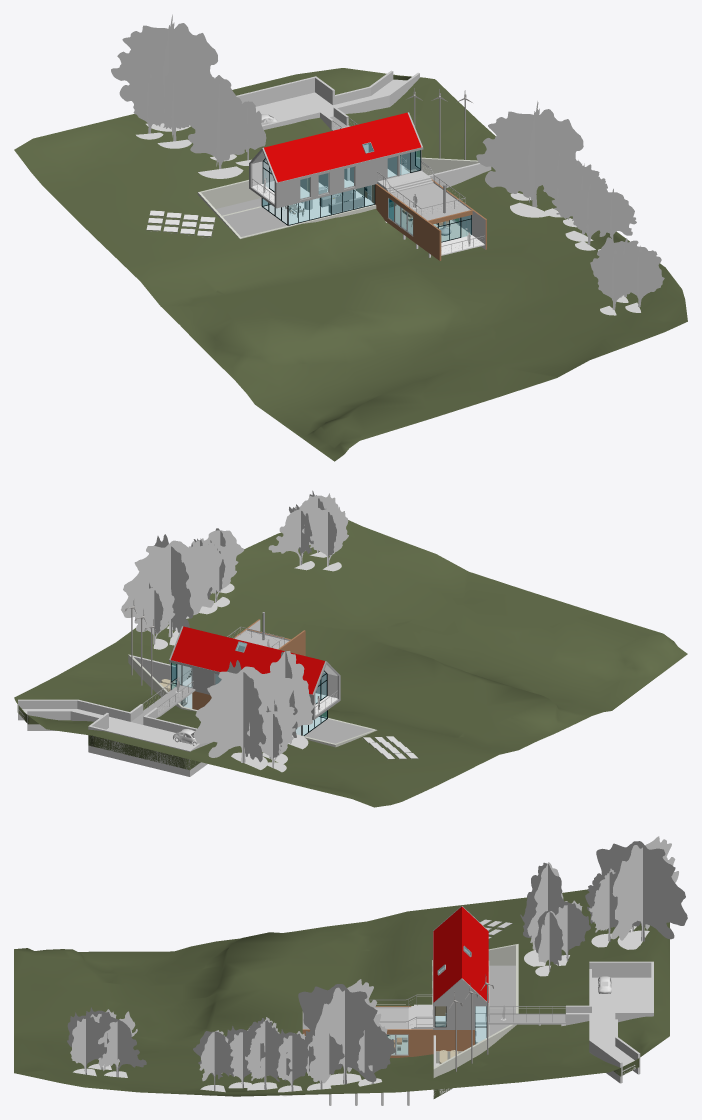
File: house.fbx
3 views of the same model, one above another, from view 1: azimuth 30°, elevation 25°; view 2: azimuth 150°, elevation 25°; view 3: azimuth 270°, elevation 25° (orthographic). The views are drawn at different scales.
Parts seen in each view (by area): view 1: RevitTopography -- a25d8b029c328549410410758bcd3cb4, RPC Tree - Deciduous -- 83f36804d551234bb99e3637532ec794|RPC, Basic Roof -- e59df62942ea5a0561938c14ede20c53, RPC Tree - Deciduous -- ce049ad8cd991e8d922de7c67d7b38ad|RPC, RPC Tree - Deciduous -- d465fbf2f9286faee2dd52e6c8f15cfe|RPC, RPC Tree - Deciduous -- a7ab9db6cc295e108fc2fecc2dffcb79|RPC, Basic Wall -- dae394cc1bb970b2c557eb27249e3102, RPC Tree - Deciduous -- 3282008497a16a3ebcbd4733bf0b61cd|RPC, Foundation Slab -- d4d56de2d5158ac59957c180705a91a3, Basic Wall -- 3443151167fdb4a0b71c8c35ce44e57f, RPC Tree - Deciduous -- e0d674486547a7c8e5db4c8d5d1be701|RPC, Curtain Wall -- aca47f7312d3ee892c19fe9a0e3e8195 (+16 smaller); view 2: RevitTopography -- a25d8b029c328549410410758bcd3cb4, RPC Tree - Deciduous -- ce049ad8cd991e8d922de7c67d7b38ad|RPC, RPC Tree - Deciduous -- 83f36804d551234bb99e3637532ec794|RPC, Basic Roof -- e59df62942ea5a0561938c14ede20c53, RPC Tree - Deciduous -- 1d969b65730b0928b386c025a4c4aec1|RPC, RPC Tree - Deciduous -- d465fbf2f9286faee2dd52e6c8f15cfe|RPC, RPC Tree - Deciduous -- 3282008497a16a3ebcbd4733bf0b61cd|RPC, RPC Tree - Deciduous -- 3c7a3f249cf2c2fc529e3b93242d620f|RPC, Basic Wall -- e4311ebe4b4def6196148fb3a7cae45b, RPC Tree - Deciduous -- 0f58305d1486761079a0730f18da7cc6|RPC, RevitTopography -- bafed9c83bf3bf15e34ef7093d0dd3c4, Foundation Slab -- d4d56de2d5158ac59957c180705a91a3 (+11 smaller); view 3: RevitTopography -- a25d8b029c328549410410758bcd3cb4, RPC Tree - Deciduous -- ce049ad8cd991e8d922de7c67d7b38ad|RPC, RPC Tree - Deciduous -- 83f36804d551234bb99e3637532ec794|RPC, Basic Roof -- e59df62942ea5a0561938c14ede20c53, Foundation Slab -- d4d56de2d5158ac59957c180705a91a3, RPC Tree - Deciduous -- d465fbf2f9286faee2dd52e6c8f15cfe|RPC, RPC Tree - Deciduous -- 68912b19b48f507e55a89bd710f7ddda|RPC, RPC Tree - Deciduous -- 3c7a3f249cf2c2fc529e3b93242d620f|RPC, RPC Tree - Deciduous -- a7ab9db6cc295e108fc2fecc2dffcb79|RPC, Basic Wall -- 2ac05b853db9c020dfa99decb329534e, RPC Tree - Deciduous -- 8958d63d4ccdade1b8a0814c8ff6c47e|RPC, RPC Tree - Deciduous -- e0d674486547a7c8e5db4c8d5d1be701|RPC (+15 smaller).
Part boxes in pixels (x1=…): RevitTopography -- a25d8b029c328549410410758bcd3cb4: x1=14, y1=68, x2=687, y2=461; RPC Tree - Deciduous -- 83f36804d551234bb99e3637532ec794|RPC: x1=476, y1=101, x2=583, y2=217; Basic Roof -- e59df62942ea5a0561938c14ede20c53: x1=252, y1=112, x2=421, y2=182; RPC Tree - Deciduous -- ce049ad8cd991e8d922de7c67d7b38ad|RPC: x1=111, y1=14, x2=217, y2=131; RPC Tree - Deciduous -- d465fbf2f9286faee2dd52e6c8f15cfe|RPC: x1=188, y1=75, x2=253, y2=178; RPC Tree - Deciduous -- a7ab9db6cc295e108fc2fecc2dffcb79|RPC: x1=143, y1=70, x2=199, y2=148; Basic Wall -- dae394cc1bb970b2c557eb27249e3102: x1=278, y1=147, x2=421, y2=207; RPC Tree - Deciduous -- 3282008497a16a3ebcbd4733bf0b61cd|RPC: x1=590, y1=248, x2=636, y2=315; Foundation Slab -- d4d56de2d5158ac59957c180705a91a3: x1=255, y1=79, x2=406, y2=122; Basic Wall -- 3443151167fdb4a0b71c8c35ce44e57f: x1=375, y1=184, x2=441, y2=260; RPC Tree - Deciduous -- e0d674486547a7c8e5db4c8d5d1be701|RPC: x1=587, y1=188, x2=636, y2=250; Curtain Wall -- aca47f7312d3ee892c19fe9a0e3e8195: x1=289, y1=185, x2=374, y2=224; RevitTopography -- a25d8b029c328549410410758bcd3cb4: x1=14, y1=520, x2=687, y2=807; RPC Tree - Deciduous -- ce049ad8cd991e8d922de7c67d7b38ad|RPC: x1=193, y1=660, x2=295, y2=769; RPC Tree - Deciduous -- 83f36804d551234bb99e3637532ec794|RPC: x1=121, y1=534, x2=222, y2=645; Basic Roof -- e59df62942ea5a0561938c14ede20c53: x1=171, y1=626, x2=337, y2=694; RPC Tree - Deciduous -- 1d969b65730b0928b386c025a4c4aec1|RPC: x1=128, y1=583, x2=174, y2=649; RPC Tree - Deciduous -- d465fbf2f9286faee2dd52e6c8f15cfe|RPC: x1=270, y1=650, x2=315, y2=749; RPC Tree - Deciduous -- 3282008497a16a3ebcbd4733bf0b61cd|RPC: x1=302, y1=507, x2=348, y2=571; RPC Tree - Deciduous -- 3c7a3f249cf2c2fc529e3b93242d620f|RPC: x1=268, y1=504, x2=320, y2=570; Basic Wall -- e4311ebe4b4def6196148fb3a7cae45b: x1=88, y1=725, x2=188, y2=776; RPC Tree - Deciduous -- 0f58305d1486761079a0730f18da7cc6|RPC: x1=247, y1=706, x2=293, y2=772; RevitTopography -- bafed9c83bf3bf15e34ef7093d0dd3c4: x1=17, y1=704, x2=200, y2=770; Foundation Slab -- d4d56de2d5158ac59957c180705a91a3: x1=18, y1=709, x2=196, y2=749; RevitTopography -- a25d8b029c328549410410758bcd3cb4: x1=14, y1=889, x2=669, y2=1096; RPC Tree - Deciduous -- ce049ad8cd991e8d922de7c67d7b38ad|RPC: x1=596, y1=836, x2=687, y2=949; RPC Tree - Deciduous -- 83f36804d551234bb99e3637532ec794|RPC: x1=298, y1=979, x2=389, y2=1085; Basic Roof -- e59df62942ea5a0561938c14ede20c53: x1=433, y1=906, x2=488, y2=1002; Foundation Slab -- d4d56de2d5158ac59957c180705a91a3: x1=592, y1=977, x2=651, y2=1071; RPC Tree - Deciduous -- d465fbf2f9286faee2dd52e6c8f15cfe|RPC: x1=520, y1=862, x2=571, y2=966; RPC Tree - Deciduous -- 68912b19b48f507e55a89bd710f7ddda|RPC: x1=245, y1=1017, x2=293, y2=1090; RPC Tree - Deciduous -- 3c7a3f249cf2c2fc529e3b93242d620f|RPC: x1=98, y1=1011, x2=146, y2=1077; RPC Tree - Deciduous -- a7ab9db6cc295e108fc2fecc2dffcb79|RPC: x1=585, y1=868, x2=637, y2=947; Basic Wall -- 2ac05b853db9c020dfa99decb329534e: x1=302, y1=1029, x2=474, y2=1057; RPC Tree - Deciduous -- 8958d63d4ccdade1b8a0814c8ff6c47e|RPC: x1=67, y1=1012, x2=109, y2=1076; RPC Tree - Deciduous -- e0d674486547a7c8e5db4c8d5d1be701|RPC: x1=193, y1=1030, x2=233, y2=1095.
Size of the model in its own units: 5416 by 2431 by 7752.
